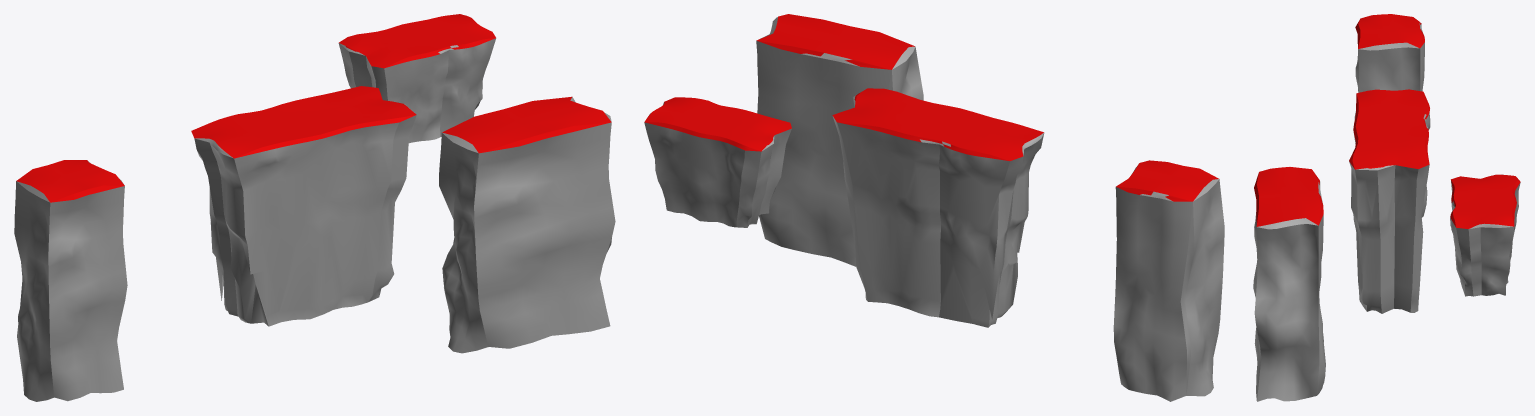
The model's file is Knight-Platform.fbx.
The picture shows the model from 3 angles, left to right: view 1: azimuth 30°, elevation 25°; view 2: azimuth 150°, elevation 25°; view 3: azimuth 270°, elevation 25°; orthographic projection. The views are drawn at different scales.
Parts seen in each view (by area): view 1: polySurface235, polySurface236, polySurface237, polySurface234; view 2: polySurface235, polySurface237, polySurface236, polySurface234; view 3: polySurface235, polySurface236, polySurface234, polySurface237.
Boxes of the visible parts, x1,y1,x2,y2 form: polySurface235: (191, 86, 416, 326); polySurface236: (439, 96, 615, 353); polySurface237: (14, 160, 127, 401); polySurface234: (338, 14, 496, 143); polySurface235: (832, 88, 1044, 327); polySurface237: (1113, 160, 1224, 401); polySurface236: (756, 14, 923, 266); polySurface234: (644, 97, 791, 227); polySurface235: (1349, 89, 1430, 313); polySurface236: (1253, 167, 1325, 401); polySurface234: (1450, 174, 1520, 296); polySurface237: (1355, 14, 1427, 217).
Bounding box in the file's own units: 26.39 × 10.6 × 13.81.
